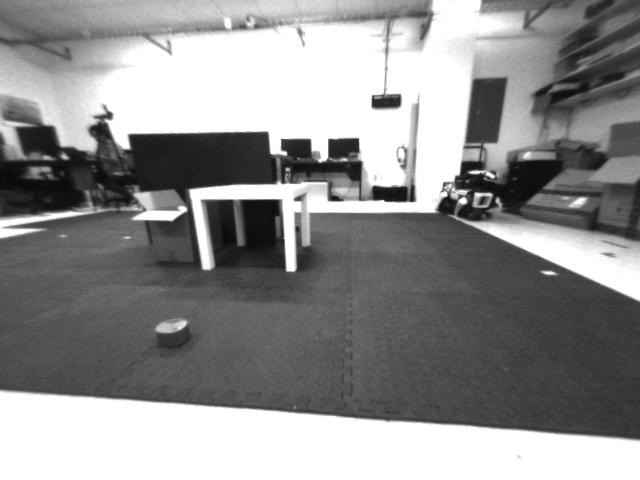dogtoy: (141, 312, 196, 357)
